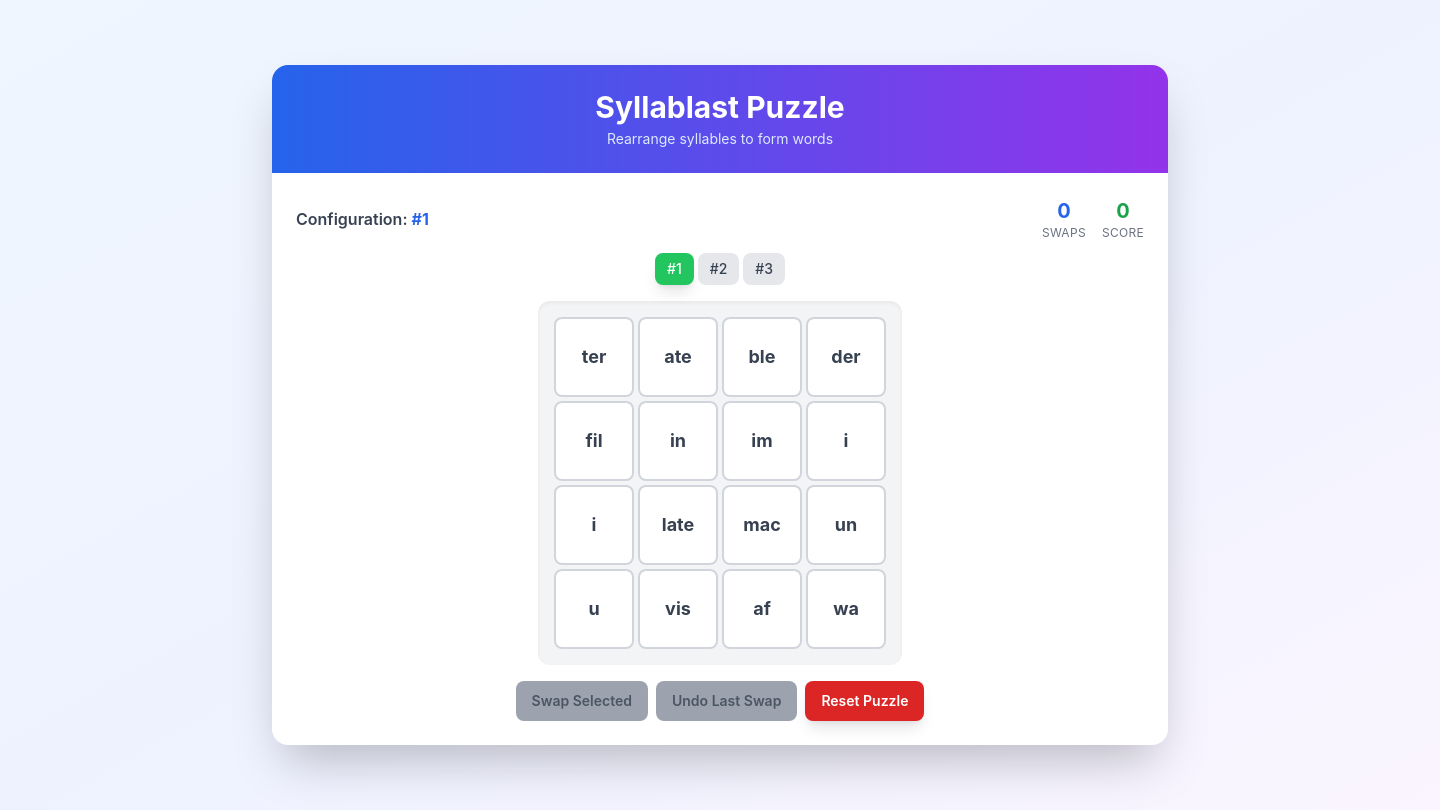
Swapping Selected Syllables
Click the text with test id "syllable-0": click(594, 357) [554,317,634,397]
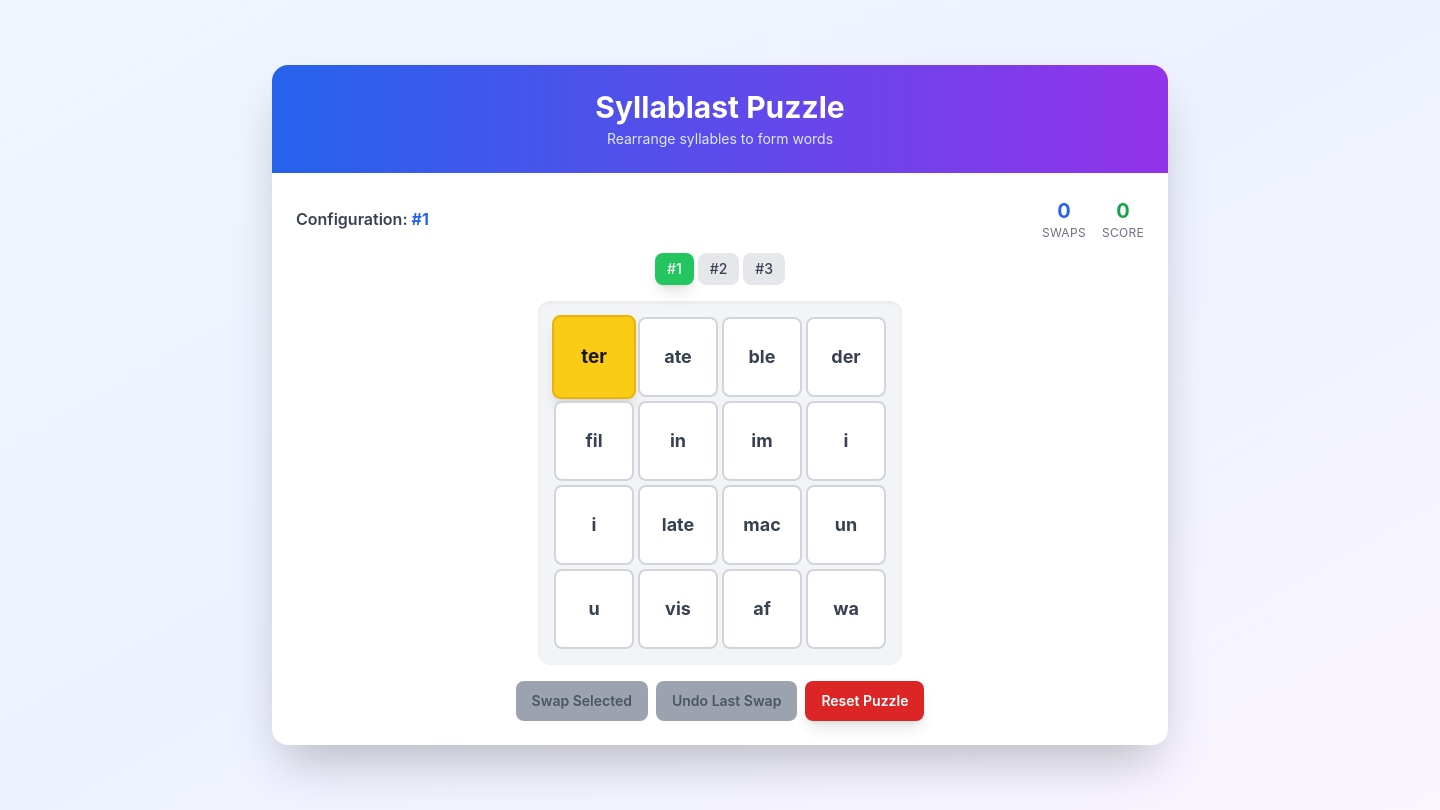
Click the text with test id "syllable-1": click(678, 357) [638,317,718,397]
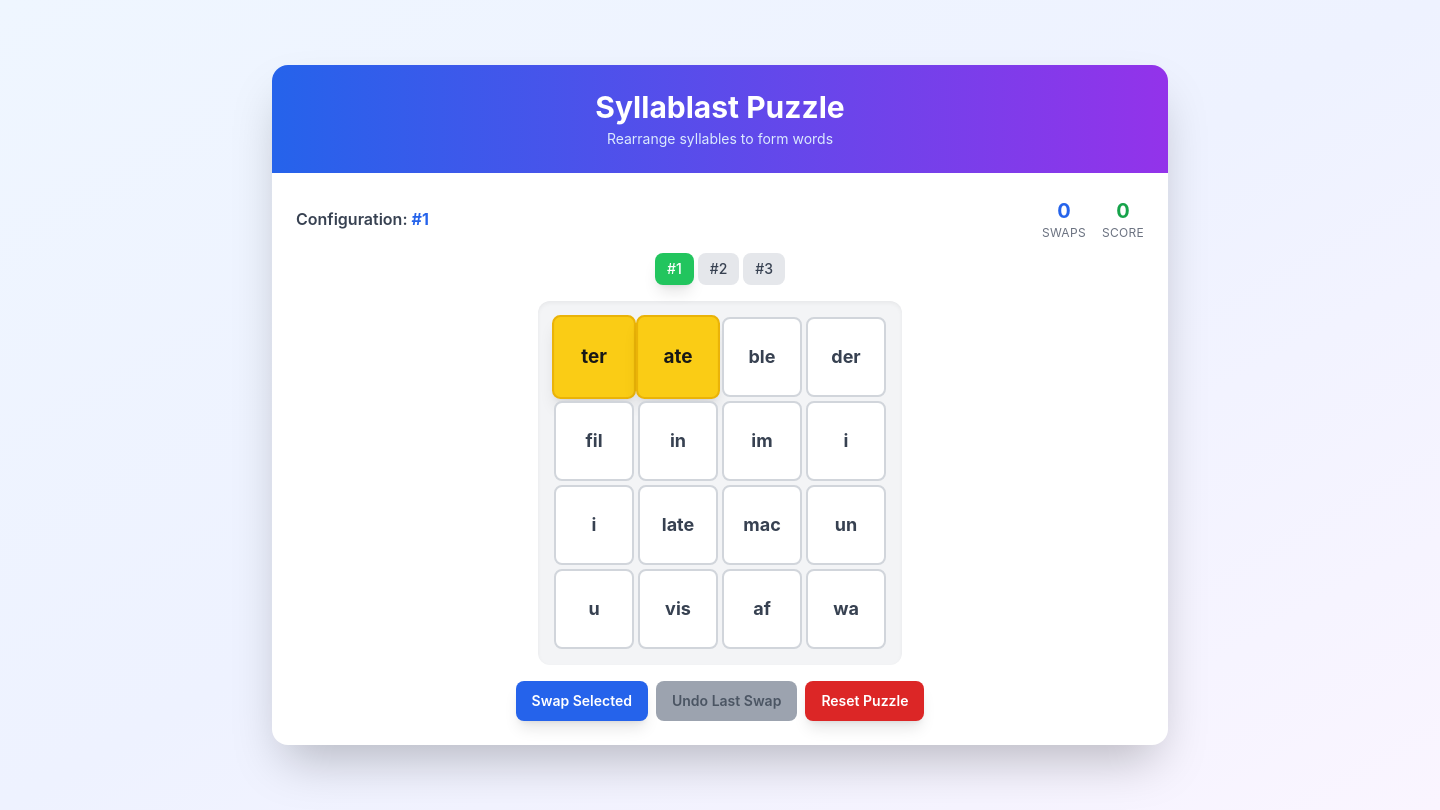
Now the button with test id "swap-button" is enabled
Click the button with test id "swap-button": click(582, 701) [516,681,648,721]
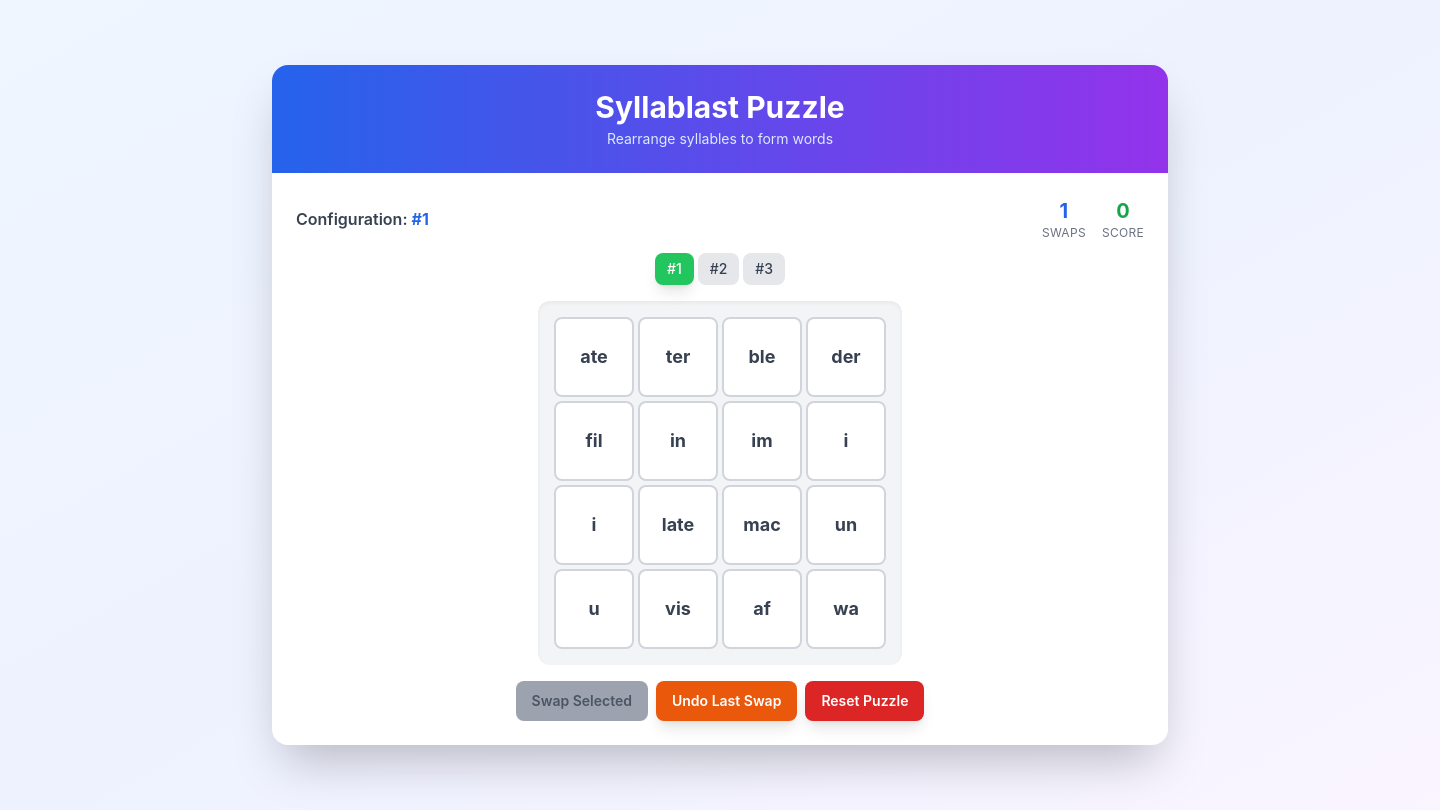
Now the element with test id "syllable-0" no longer shows "ter"
